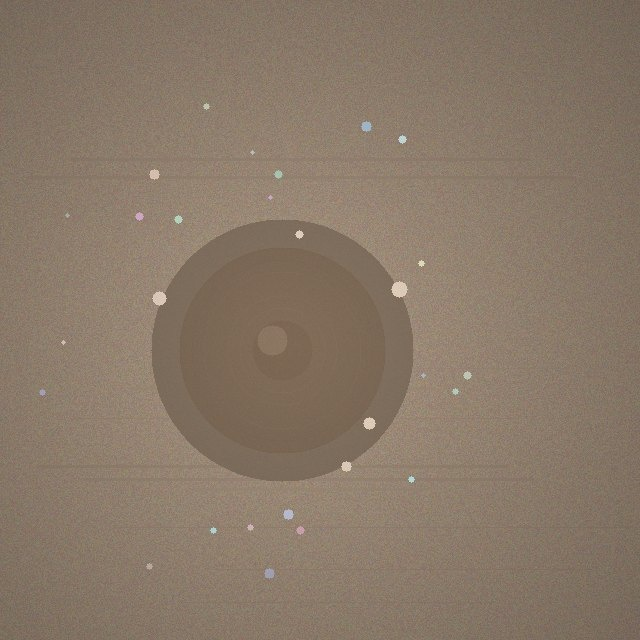overburn: (151, 219, 413, 481)
